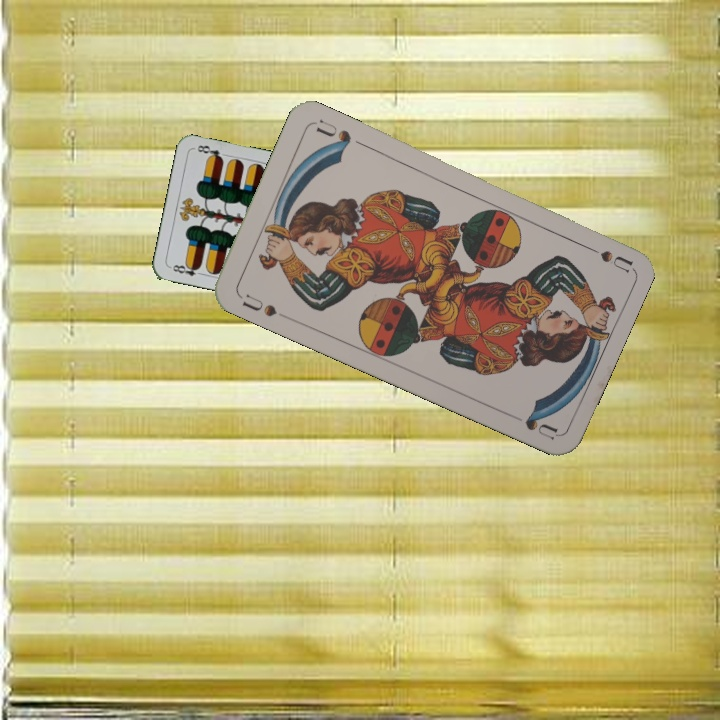E8: (166, 259, 207, 279)
SU: (575, 238, 632, 274), (235, 289, 280, 320)
